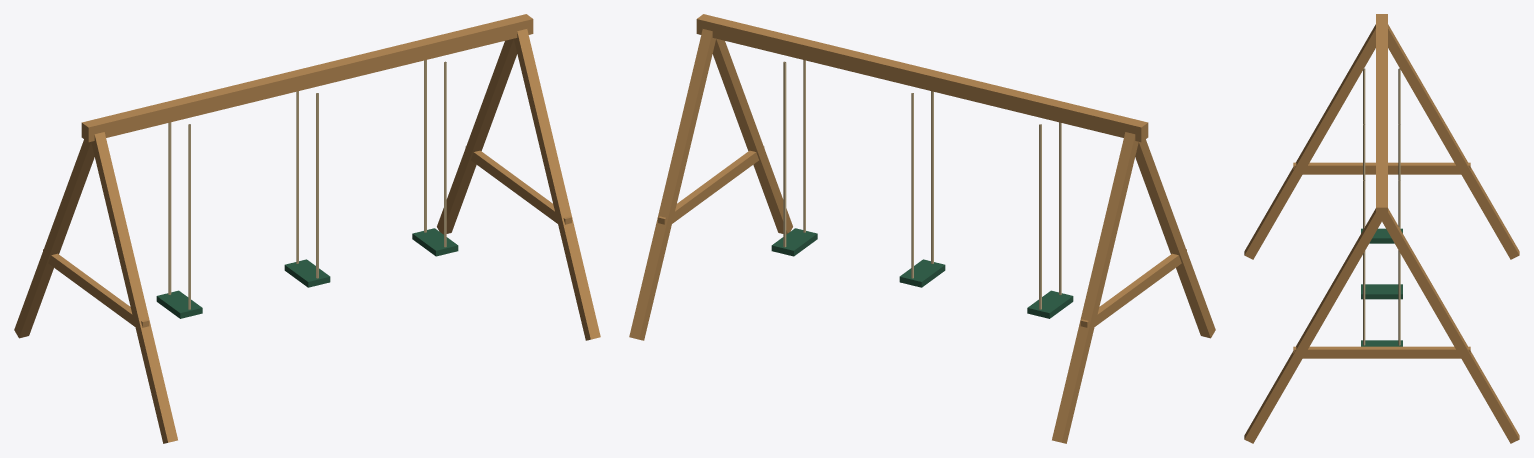
The picture shows the model from 3 angles, left to right: view 1: azimuth 30°, elevation 25°; view 2: azimuth 150°, elevation 25°; view 3: azimuth 270°, elevation 25°; orthographic projection. The views are drawn at different scales.
Visible parts, largest first — view 1: SW-A409; view 2: SW-A409; view 3: SW-A409.
Part boxes in pixels (x1,y1,x2,y2): SW-A409: [14, 14, 600, 443]; SW-A409: [629, 14, 1215, 443]; SW-A409: [1244, 14, 1519, 443].
Bounding box in the file's own units: 4 × 2.3 × 2.4.
